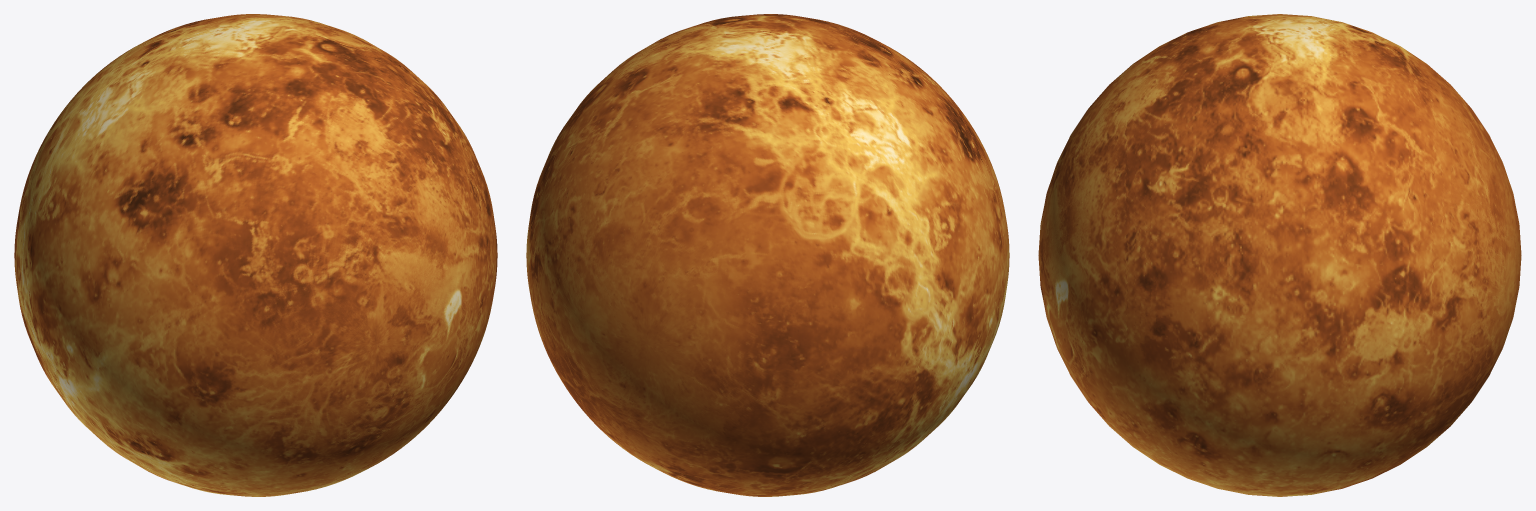
Rendered from earth.gltf.
3 views of the same model, side by side, from view 1: azimuth 30°, elevation 25°; view 2: azimuth 150°, elevation 25°; view 3: azimuth 270°, elevation 25° (orthographic).
Parts seen in each view (by area): view 1: Sphere_Material.002_0; view 2: Sphere_Material.002_0; view 3: Sphere_Material.002_0.
Boxes of the visible parts, box(x1,y1,x2,y2) form: Sphere_Material.002_0: box(14, 14, 497, 496); Sphere_Material.002_0: box(526, 14, 1009, 496); Sphere_Material.002_0: box(1038, 14, 1521, 496).
Bounding box in the file's own units: 1 × 1 × 1.
